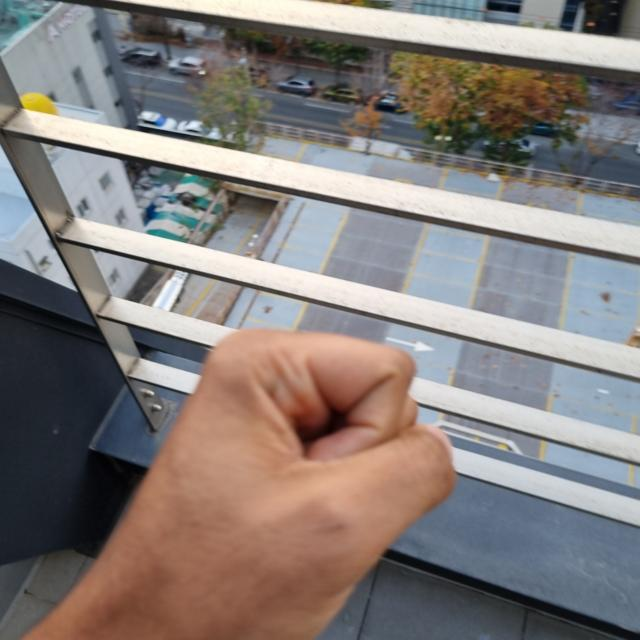Rock: (15, 323, 456, 639)
